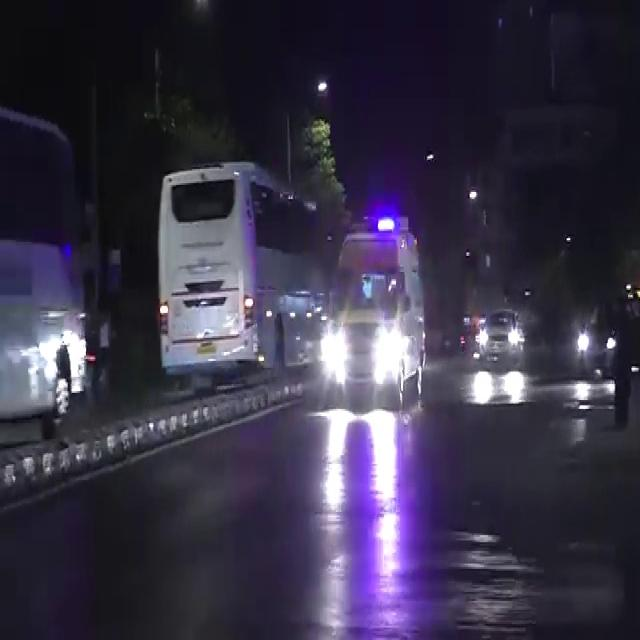ambulance: (318, 214, 420, 388)
